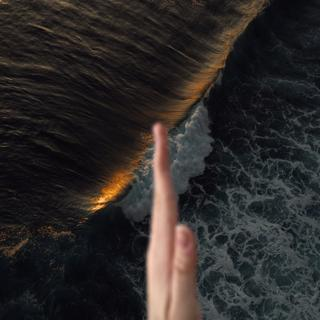Right: (133, 116, 216, 320)
